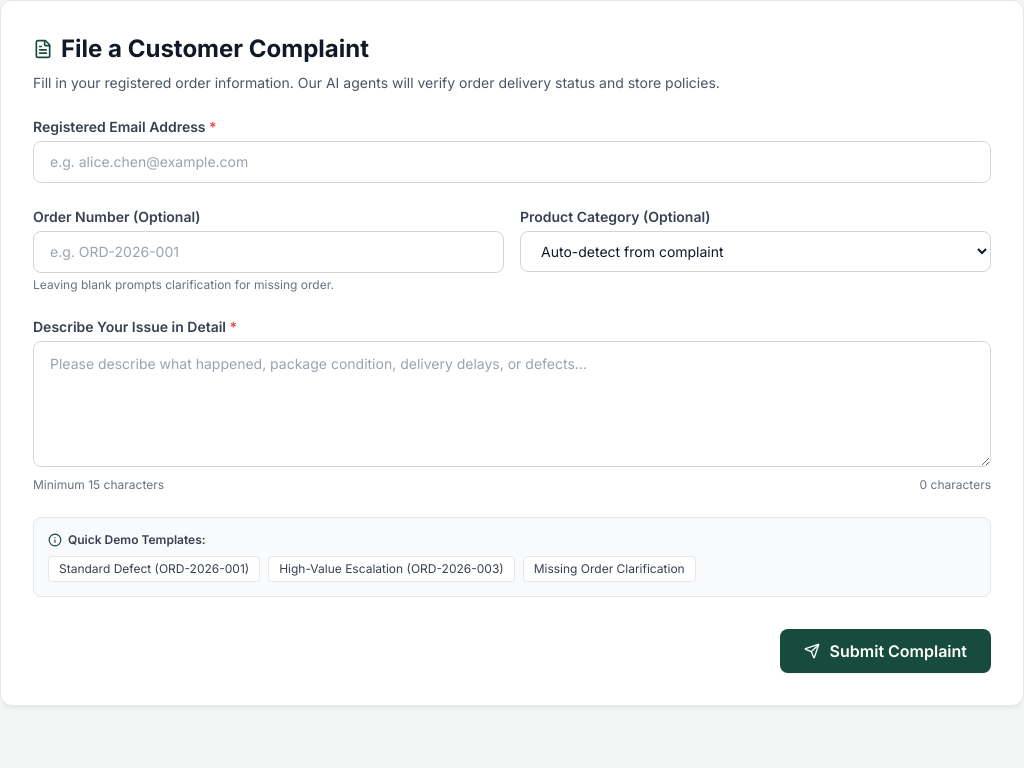
Scenario: Customer Portal Components › CustomerComplaintForm › submits complaint and displays case details on success
The width and height of the screenshot is (1024, 768).
Type "alice.chen@example.com" into the field labelled "Registered Email Address *" at [512, 162], box [33, 141, 991, 183]
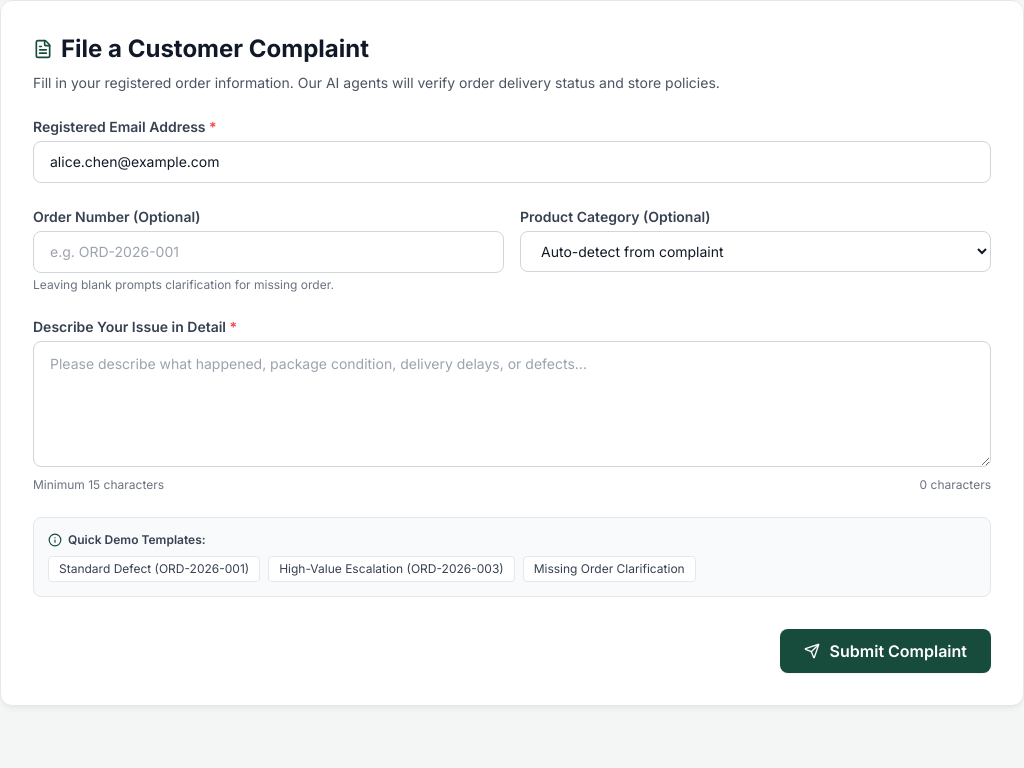
Type "ORD-2026-001" into the field with placeholder "e.g. ORD-2026-001" at [268, 252], box [33, 231, 504, 273]
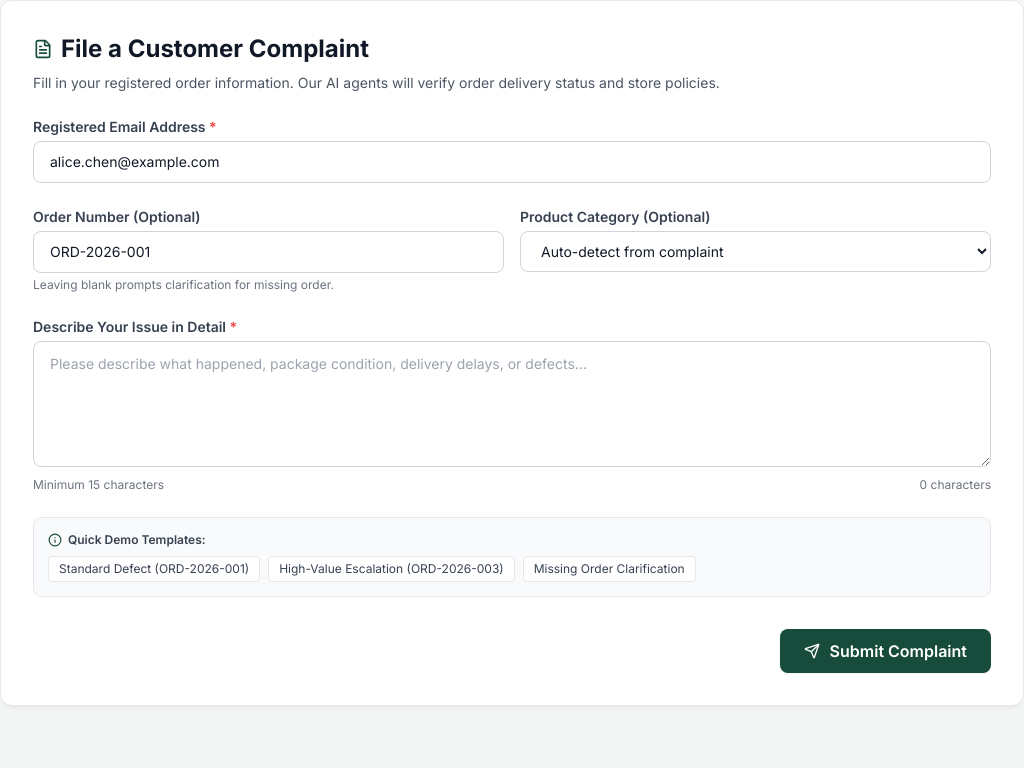
Replace the text in the text box labelled "Describe Your Issue in Detail *" with "The delivered electronic tablet had a cracked display screen on unboxing." at [512, 404], box [33, 341, 991, 467]
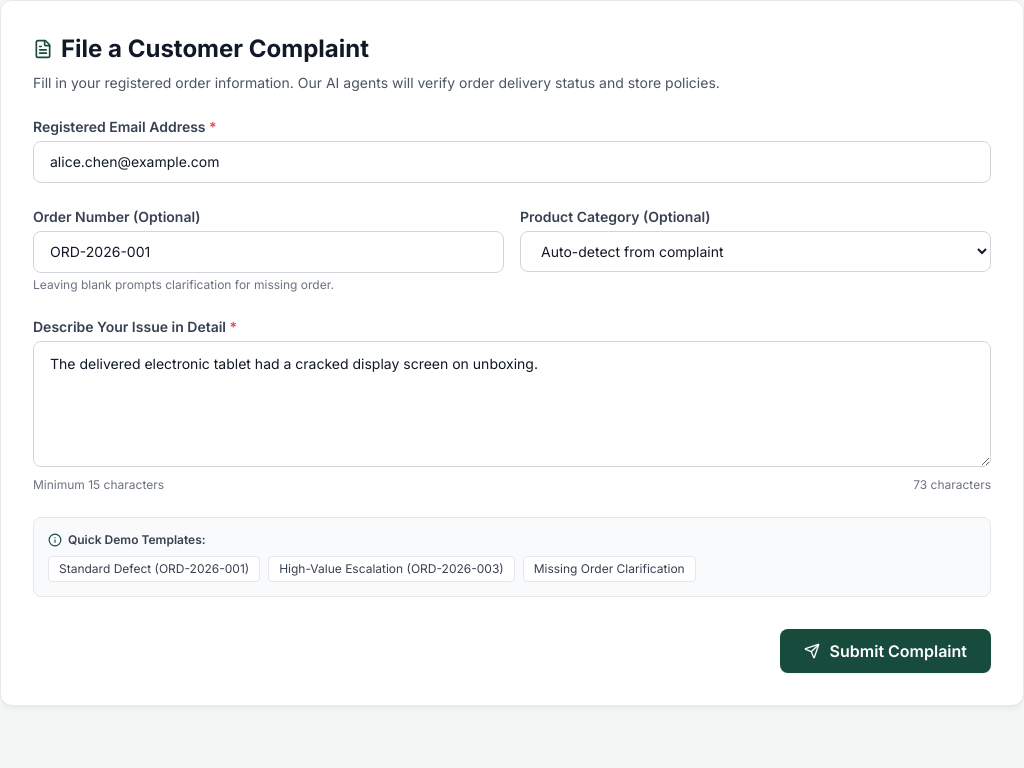
Click the button "Submit Complaint" at [885, 651], box [780, 629, 991, 673]
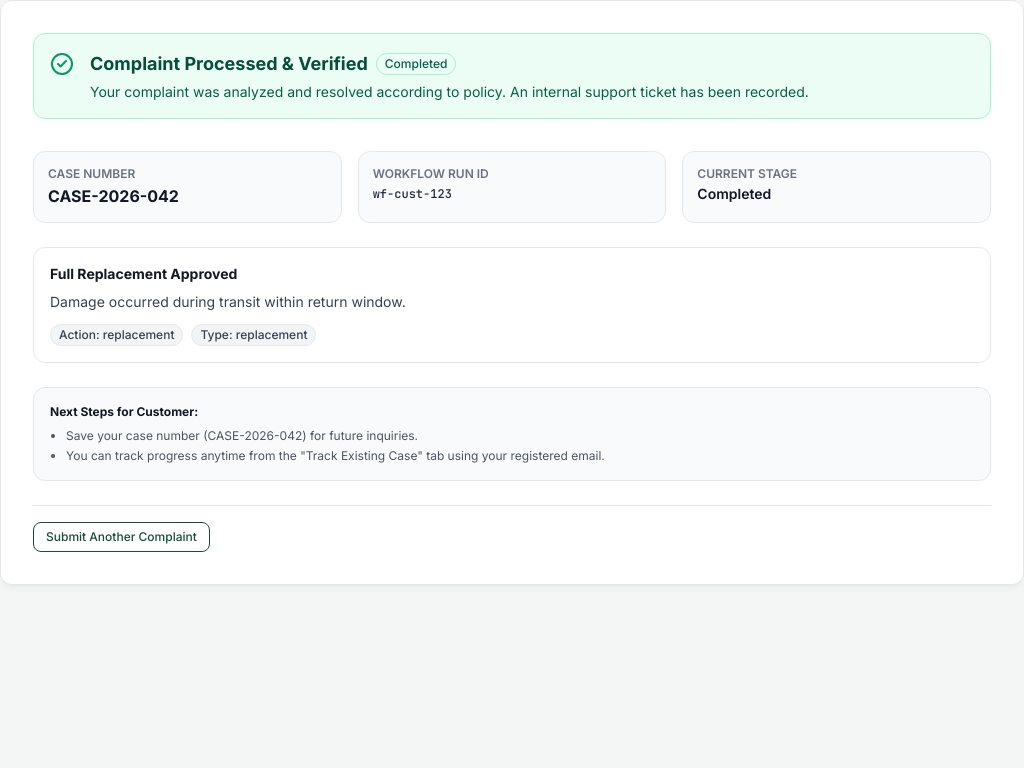
Result: the heading "Complaint Processed & Verified" is shown at [90, 50, 368, 78]
Result: the text "CASE-2026-042" is shown at [48, 186, 179, 206]
Result: the heading "Full Replacement Approved" is shown at [50, 265, 237, 282]
